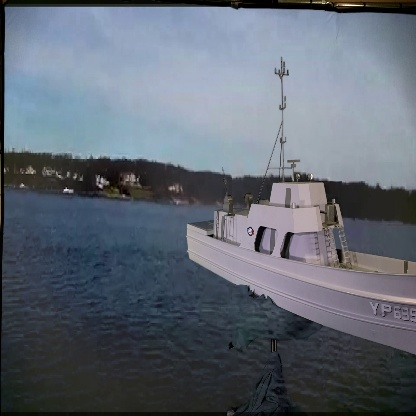YP689: (186, 58, 416, 361)
